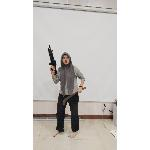Golok: (60, 85, 90, 108)
Senapan: (44, 44, 60, 76)
